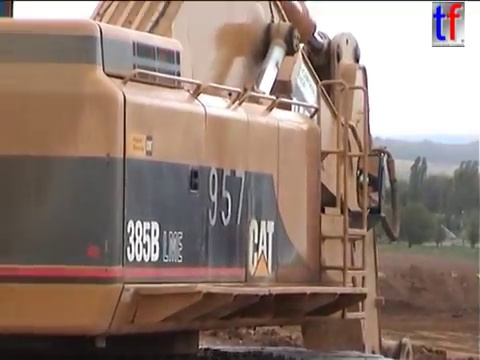excavator: (1, 1, 451, 360)
